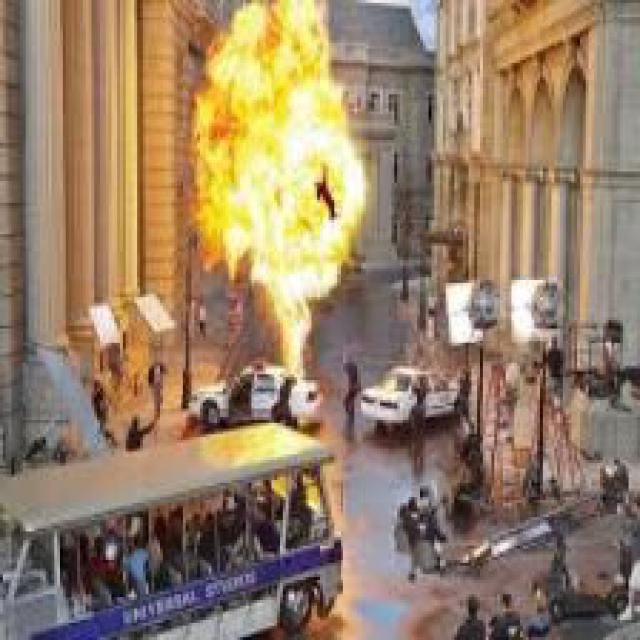fire: (186, 3, 374, 400)
